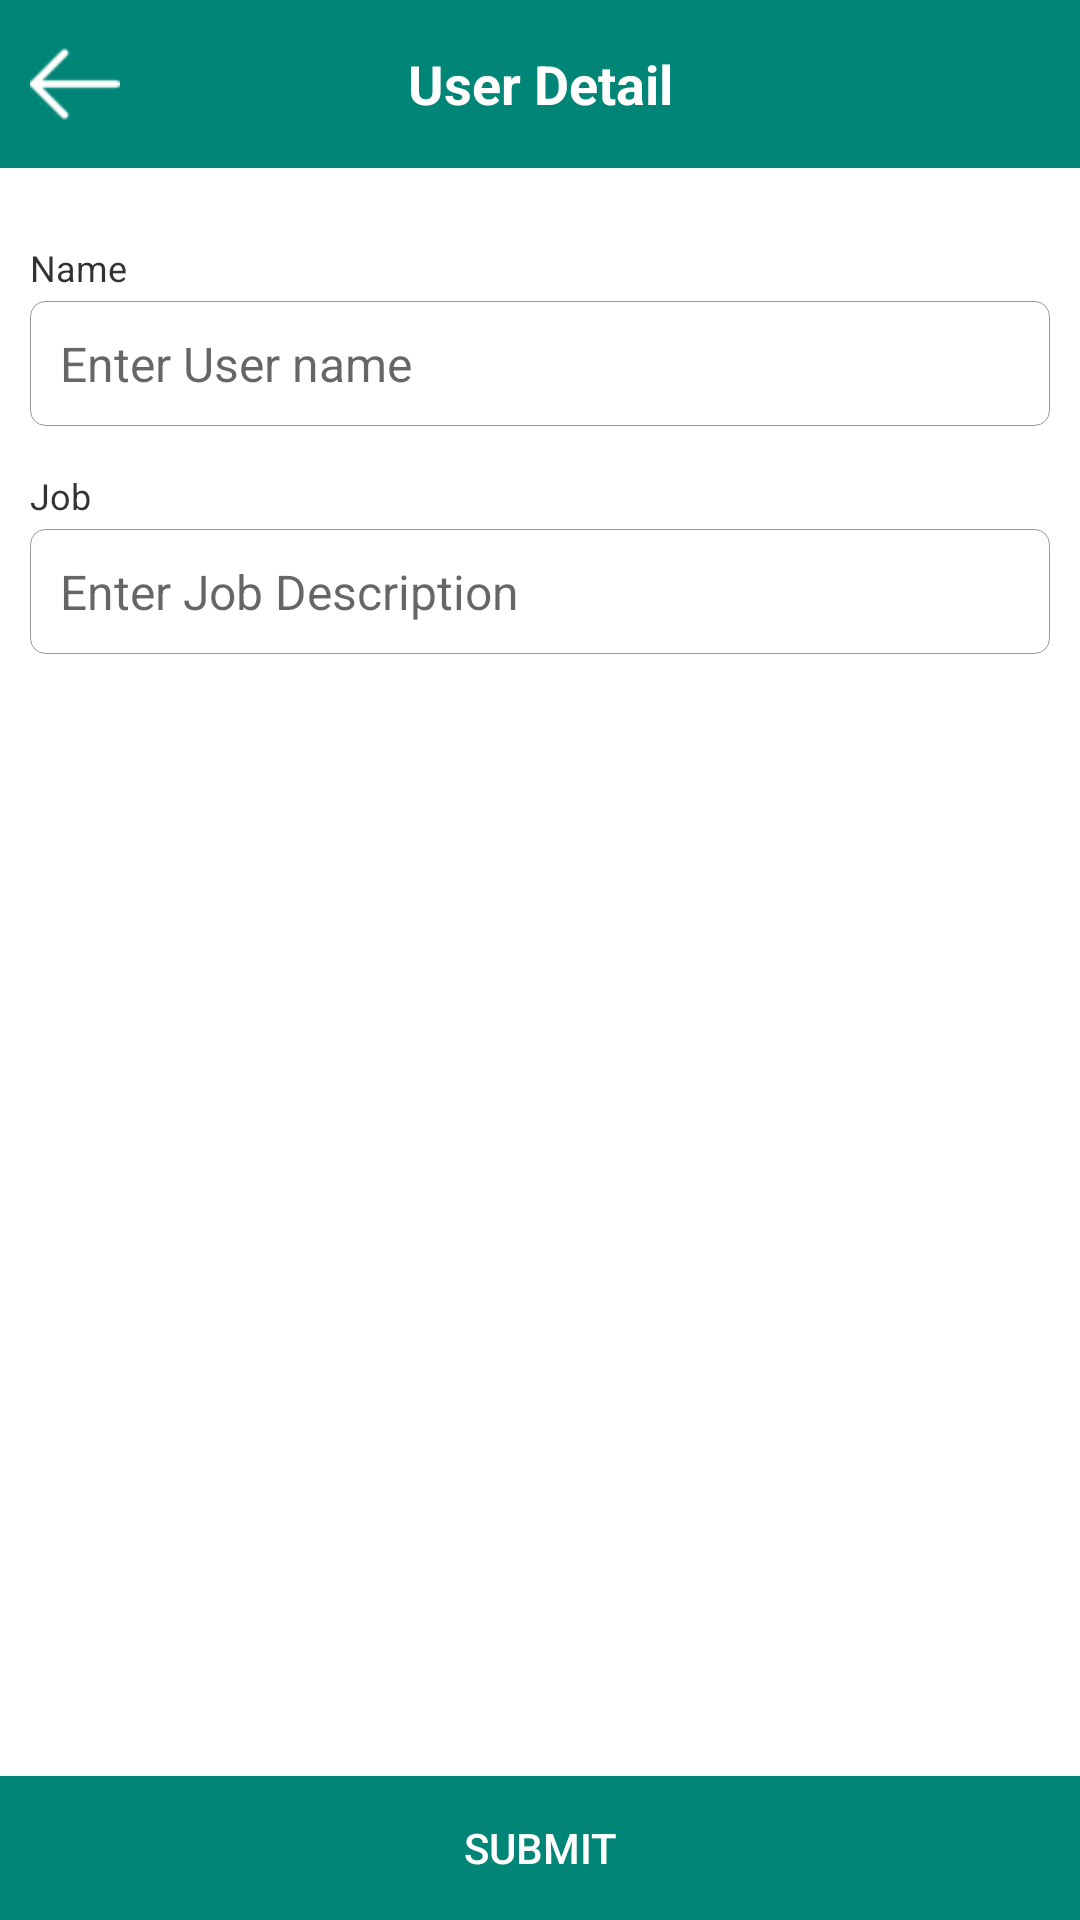

Icon bounding boxes for this 1080x1920 phone screenshot, format (x1, y1, x2, y2):
back: (30, 48, 120, 120)
